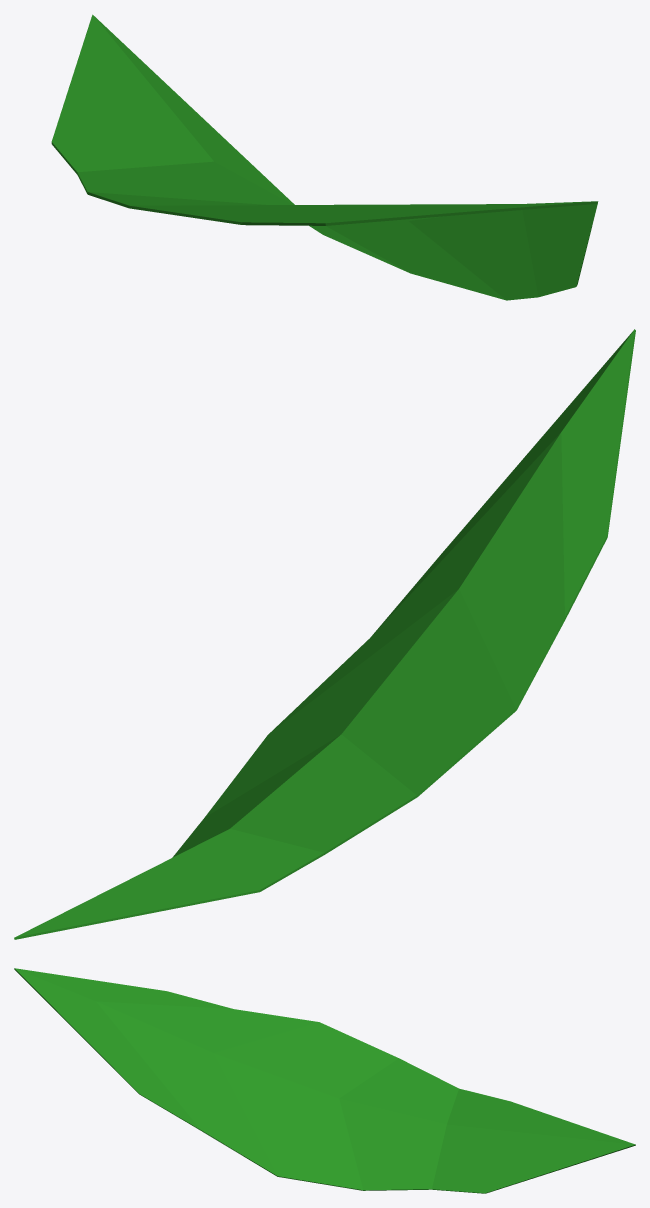
Rendered from oregano2.fbx.
3 views of the same model, one above another, from view 1: azimuth 30°, elevation 25°; view 2: azimuth 150°, elevation 25°; view 3: azimuth 270°, elevation 25° (orthographic). The views are drawn at different scales.
Visible parts, largest first — view 1: GRAS.006; view 2: GRAS.006; view 3: GRAS.006.
Part boxes in pixels (left/top/right/bottom): GRAS.006: left=51, top=14, right=598, bottom=300; GRAS.006: left=14, top=329, right=635, bottom=939; GRAS.006: left=14, top=968, right=635, bottom=1193.
Bounding box in the file's own units: 2.41 × 2.59 × 7.7.
